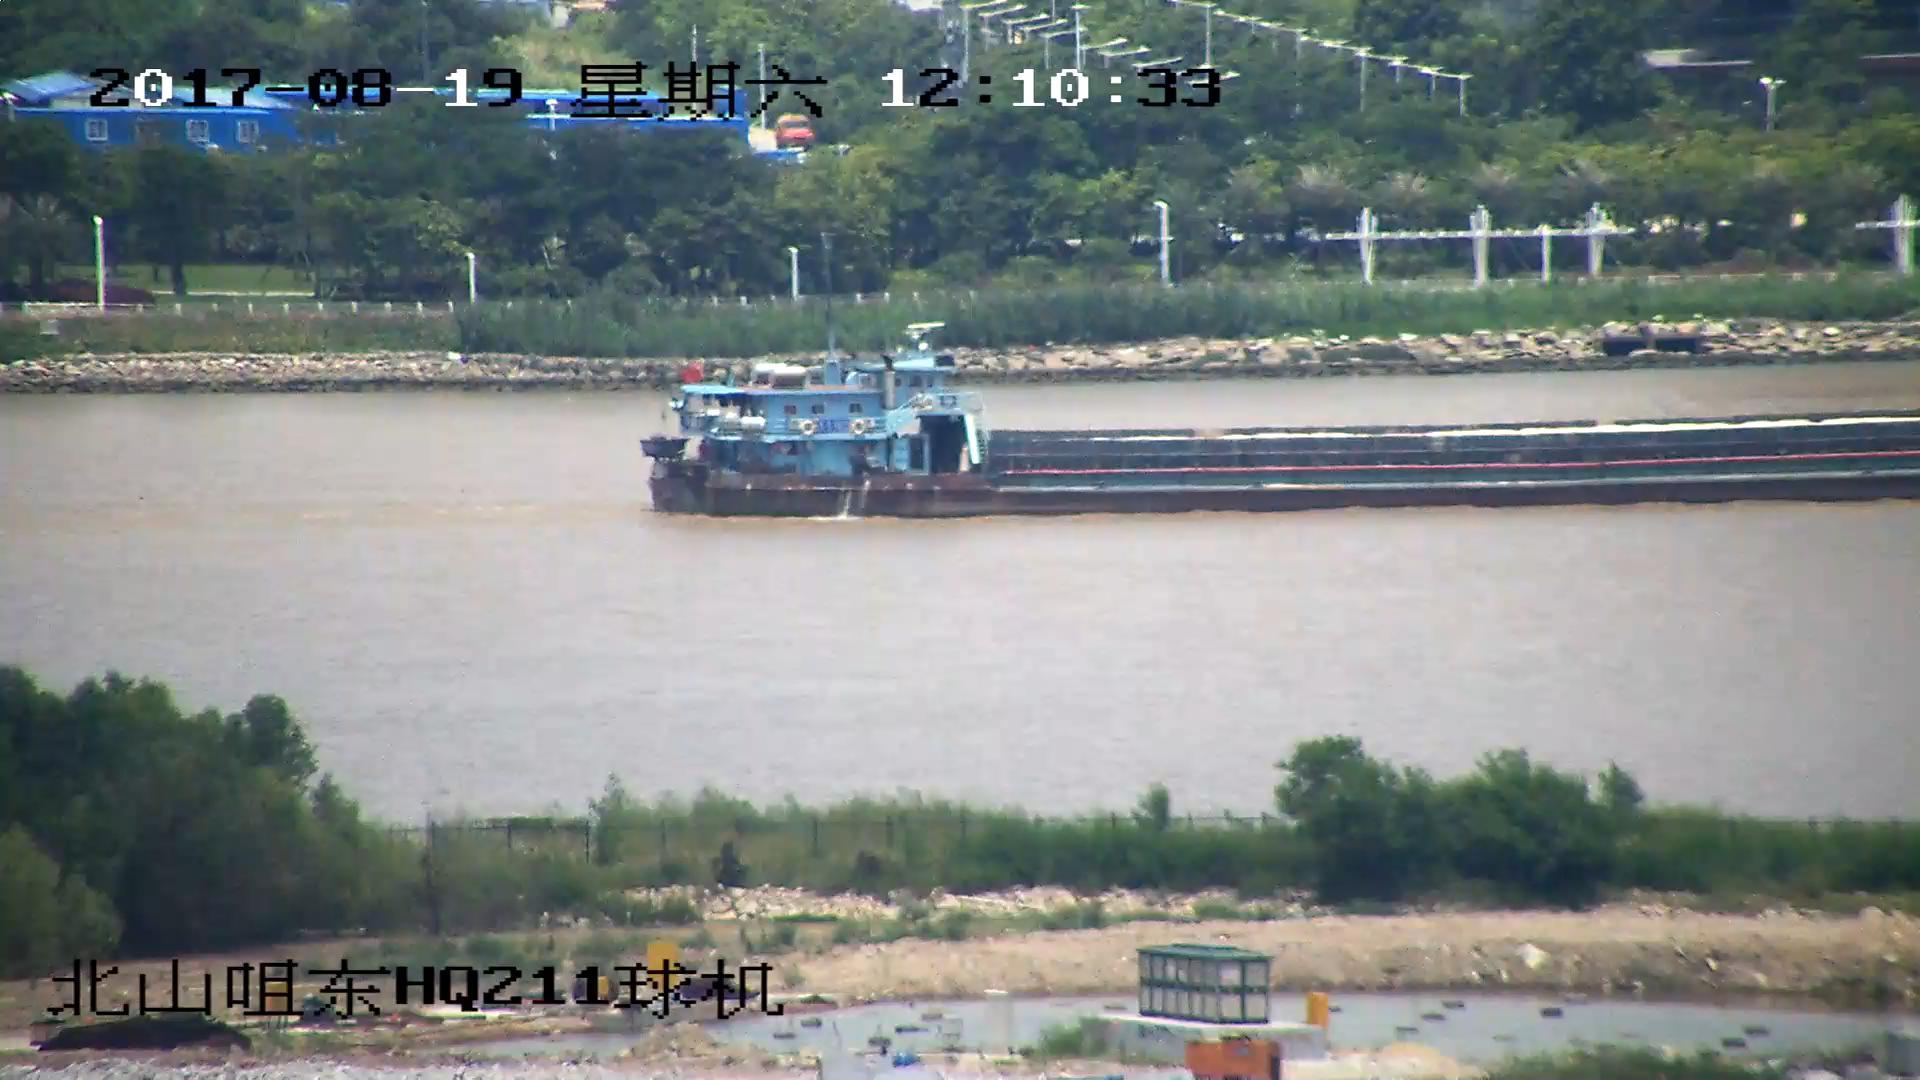Ship: (644, 320, 1920, 521)
